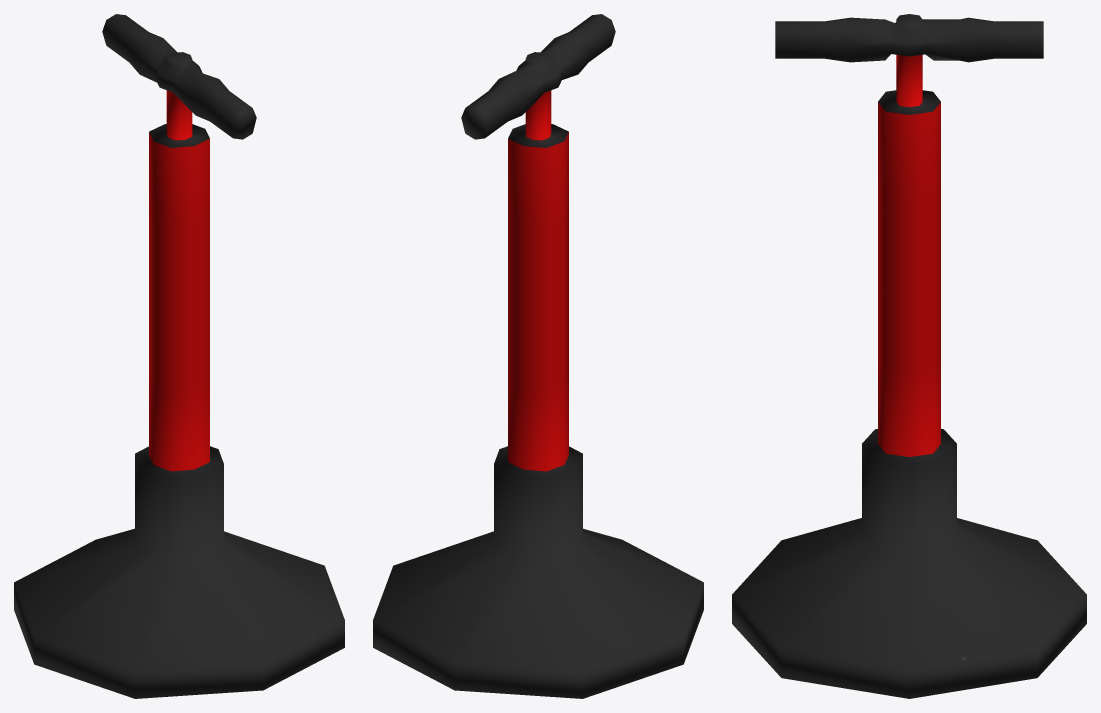
The model's file is BikePump.fbx.
3 views of the same model, side by side, from view 1: azimuth 30°, elevation 25°; view 2: azimuth 150°, elevation 25°; view 3: azimuth 270°, elevation 25° (orthographic). The views are drawn at different scales.
Parts seen in each view (by area): view 1: BikePump; view 2: BikePump; view 3: BikePump.
Part boxes in pixels (x1,y1,x2,y2): BikePump: (14,14,344,698); BikePump: (373,14,703,698); BikePump: (732,14,1086,698).
Bounding box in the file's own units: 7.5 × 14.11 × 7.5.
Materials: 1 (1 with a texture image).
